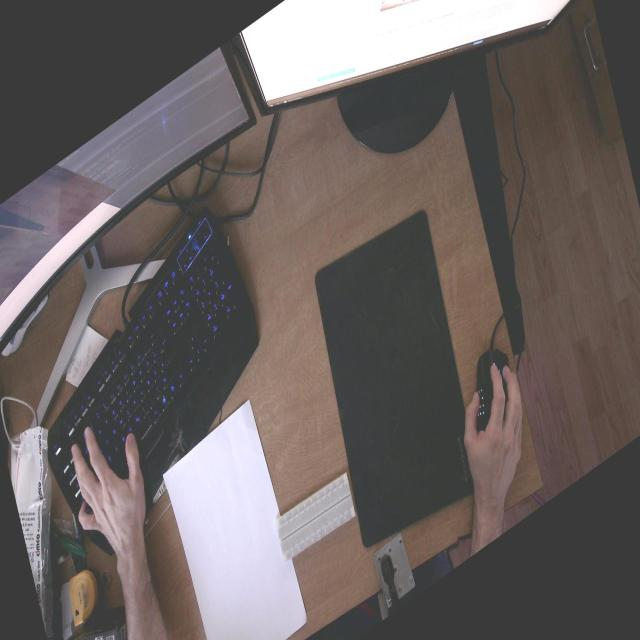keyboard-with-hands: (38, 202, 267, 569)
